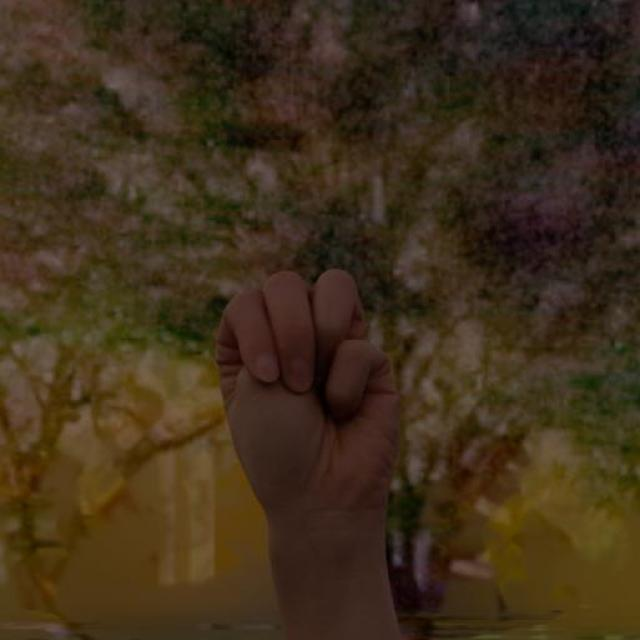M: (192, 229, 418, 573)
